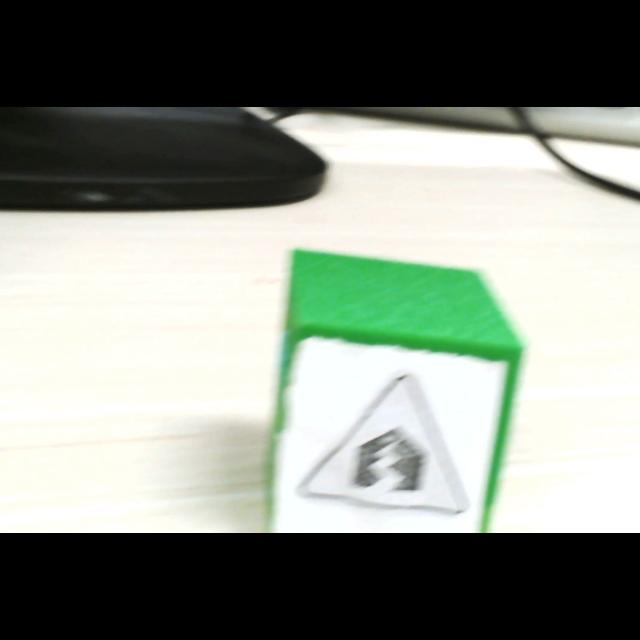Earthquake: (297, 374, 470, 516)
